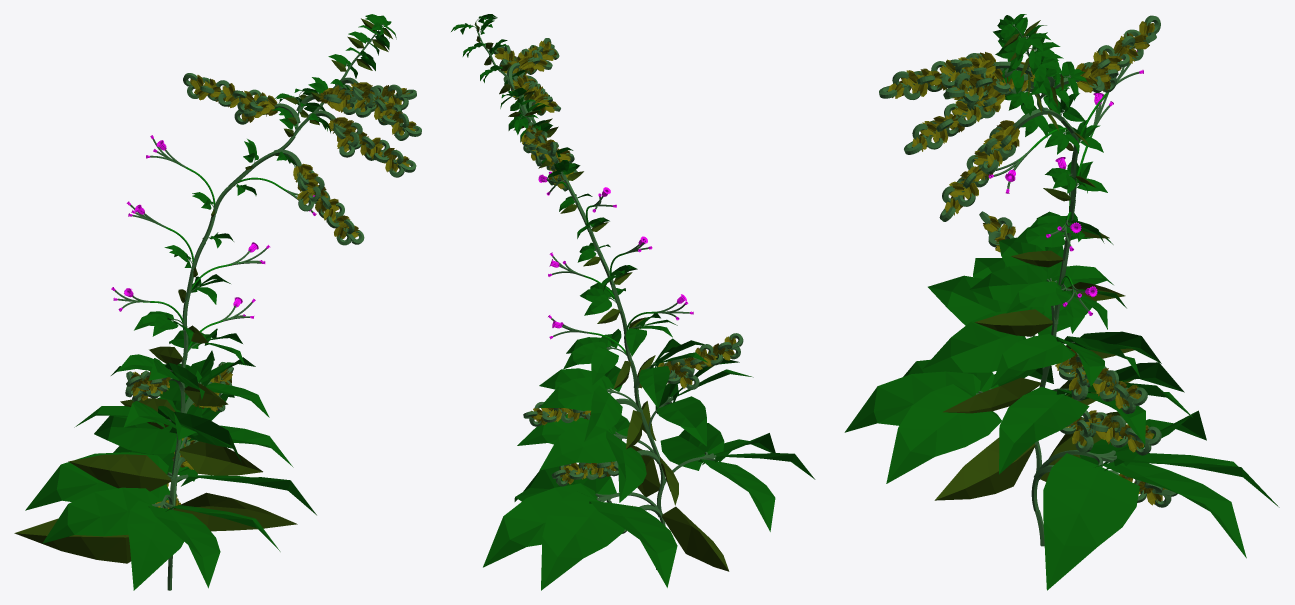
The model's file is plants1.obj.
3 views of the same model, side by side, from view 1: azimuth 30°, elevation 25°; view 2: azimuth 150°, elevation 25°; view 3: azimuth 270°, elevation 25° (orthographic). The views are drawn at different scales.
Visible parts, largest first — view 1: 1Breeder; view 2: 1Breeder; view 3: 1Breeder.
Part boxes in pixels (bbox=[...]): 1Breeder: bbox=[14, 14, 421, 590]; 1Breeder: bbox=[451, 14, 815, 590]; 1Breeder: bbox=[844, 14, 1279, 590].
Size of the model in its own units: 608 by 901 by 552.
